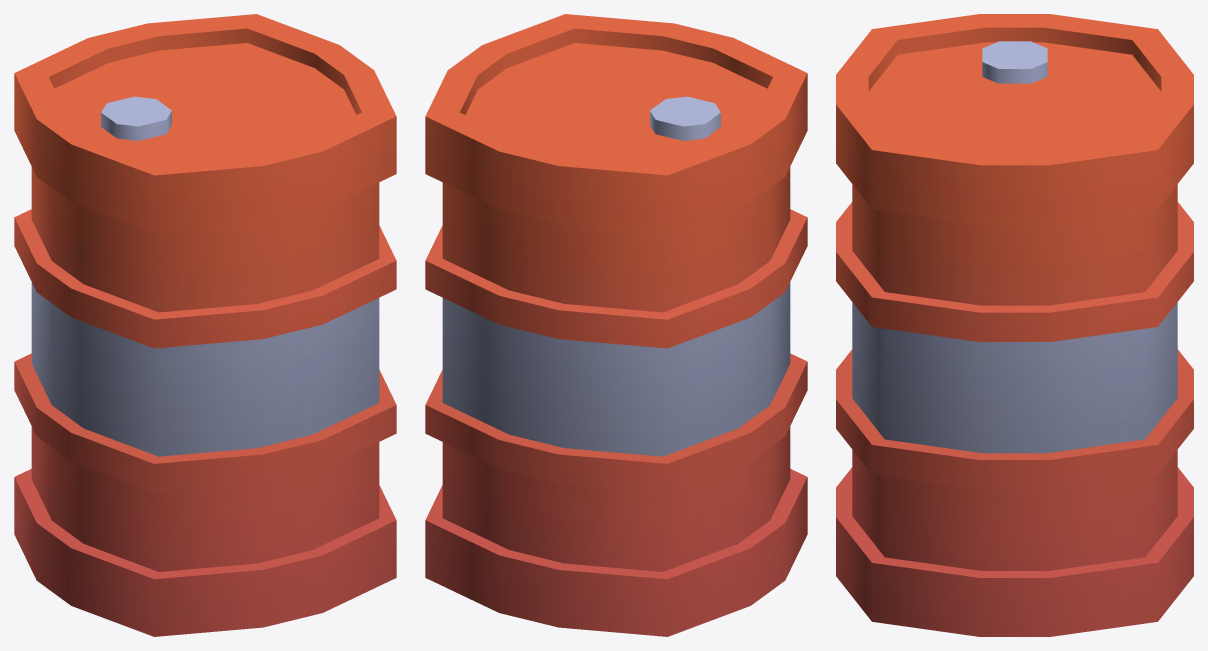
File: barrel.glb
The picture shows the model from 3 angles, left to right: view 1: azimuth 30°, elevation 25°; view 2: azimuth 150°, elevation 25°; view 3: azimuth 270°, elevation 25°; orthographic projection. The views are drawn at different scales.
Visible parts, largest first — view 1: barrel; view 2: barrel; view 3: barrel.
Part boxes in pixels (x1,y1,x2,y2): barrel: (14, 14, 396, 636); barrel: (425, 14, 807, 636); barrel: (836, 14, 1193, 636).
Size of the model in its own units: 0.2365 by 0.344 by 0.2365.
1 material, 1 textured.
